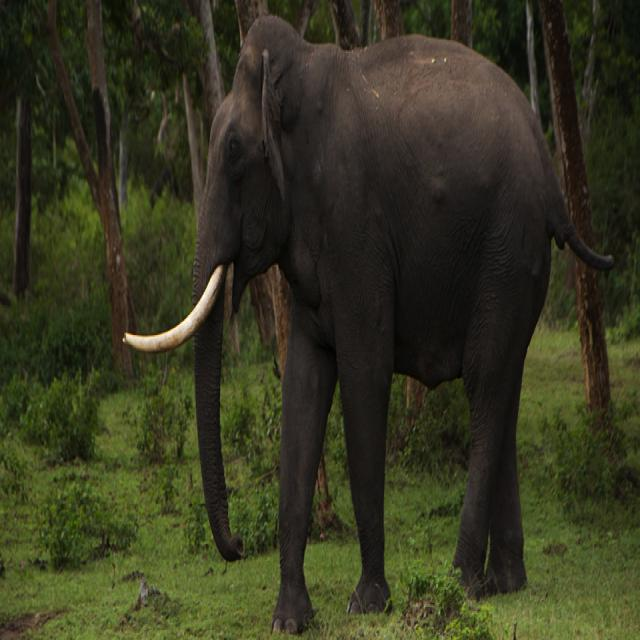Elephant: (124, 8, 600, 623)
